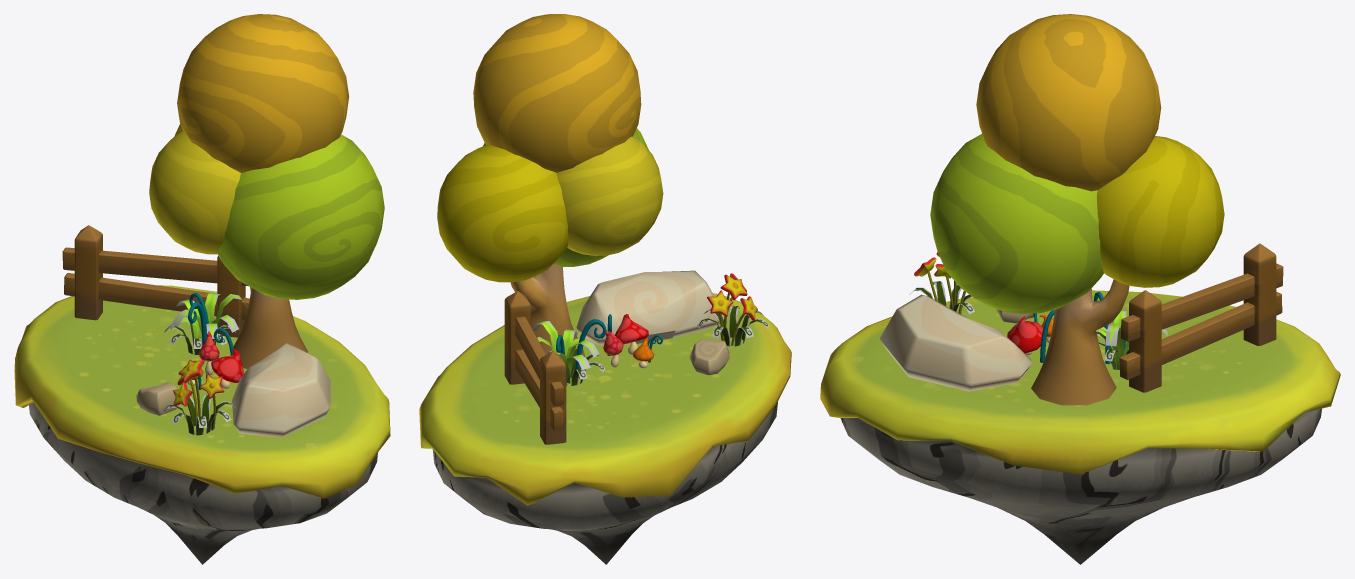
File: Island.fbx
3 renders of one model, left to right at view 1: azimuth 30°, elevation 25°; view 2: azimuth 150°, elevation 25°; view 3: azimuth 270°, elevation 25°, orthographic. The views are drawn at different scales.
Parts seen in each view (by area): view 1: Diorama_LenaLund:pCylinder16, Diorama_LenaLund:polySurface52, Diorama_LenaLund:polySurface84, Diorama_LenaLund:pCube15, Diorama_LenaLund:polySurface75, Diorama_LenaLund:polySurface60, Diorama_LenaLund:pPlane9, Diorama_LenaLund:pCube14, Diorama_LenaLund:pCone2, Diorama_LenaLund:pPlane13, Diorama_LenaLund:pCone4; view 2: Diorama_LenaLund:pCylinder16, Diorama_LenaLund:polySurface52, Diorama_LenaLund:pCube15, Diorama_LenaLund:polySurface84, Diorama_LenaLund:polySurface75, Diorama_LenaLund:polySurface60, Diorama_LenaLund:pCube14, Diorama_LenaLund:pPlane9, Diorama_LenaLund:pCone2; view 3: Diorama_LenaLund:polySurface52, Diorama_LenaLund:pCylinder16, Diorama_LenaLund:polySurface84, Diorama_LenaLund:pCube15, Diorama_LenaLund:pCone2, Diorama_LenaLund:polySurface60, Diorama_LenaLund:polySurface75.
Part boxes in pixels (left/top/right/bottom): Diorama_LenaLund:pCylinder16: left=14, top=285, right=390, bottom=564; Diorama_LenaLund:polySurface52: left=149, top=14, right=384, bottom=368; Diorama_LenaLund:polySurface84: left=62, top=225, right=249, bottom=337; Diorama_LenaLund:pCube15: left=232, top=342, right=330, bottom=437; Diorama_LenaLund:polySurface75: left=173, top=359, right=224, bottom=429; Diorama_LenaLund:polySurface60: left=170, top=293, right=246, bottom=346; Diorama_LenaLund:pPlane9: left=162, top=394, right=236, bottom=435; Diorama_LenaLund:pCube14: left=136, top=382, right=178, bottom=415; Diorama_LenaLund:pCone2: left=211, top=349, right=244, bottom=388; Diorama_LenaLund:pPlane13: left=164, top=317, right=235, bottom=354; Diorama_LenaLund:pCone4: left=199, top=331, right=219, bottom=375; Diorama_LenaLund:pCylinder16: left=419, top=293, right=791, bottom=564; Diorama_LenaLund:polySurface52: left=437, top=14, right=663, bottom=356; Diorama_LenaLund:pCube15: left=576, top=270, right=723, bottom=345; Diorama_LenaLund:polySurface84: left=504, top=291, right=566, bottom=444; Diorama_LenaLund:polySurface75: left=707, top=273, right=757, bottom=345; Diorama_LenaLund:polySurface60: left=532, top=321, right=599, bottom=383; Diorama_LenaLund:pCube14: left=689, top=338, right=729, bottom=375; Diorama_LenaLund:pPlane9: left=697, top=305, right=769, bottom=346; Diorama_LenaLund:pCone2: left=615, top=314, right=648, bottom=355; Diorama_LenaLund:polySurface52: left=930, top=14, right=1224, bottom=405; Diorama_LenaLund:pCylinder16: left=820, top=290, right=1340, bottom=564; Diorama_LenaLund:polySurface84: left=1119, top=243, right=1283, bottom=392; Diorama_LenaLund:pCube15: left=880, top=294, right=1031, bottom=391; Diorama_LenaLund:pCone2: left=1007, top=316, right=1043, bottom=355; Diorama_LenaLund:polySurface60: left=1096, top=310, right=1167, bottom=369; Diorama_LenaLund:polySurface75: left=914, top=252, right=965, bottom=314.
Bounding box in the file's own units: 3.84 × 6.77 × 5.59.
